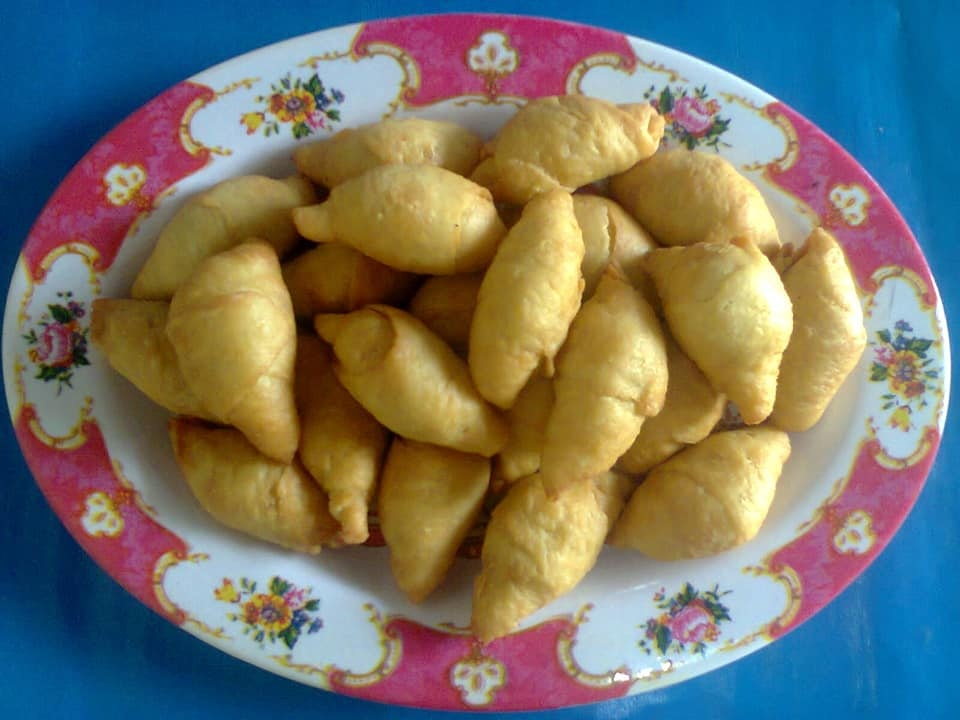pisang_molen: (530, 267, 671, 499), (316, 305, 517, 465), (168, 235, 300, 461), (639, 236, 786, 414), (606, 425, 789, 558), (290, 161, 503, 274), (474, 194, 581, 405)
